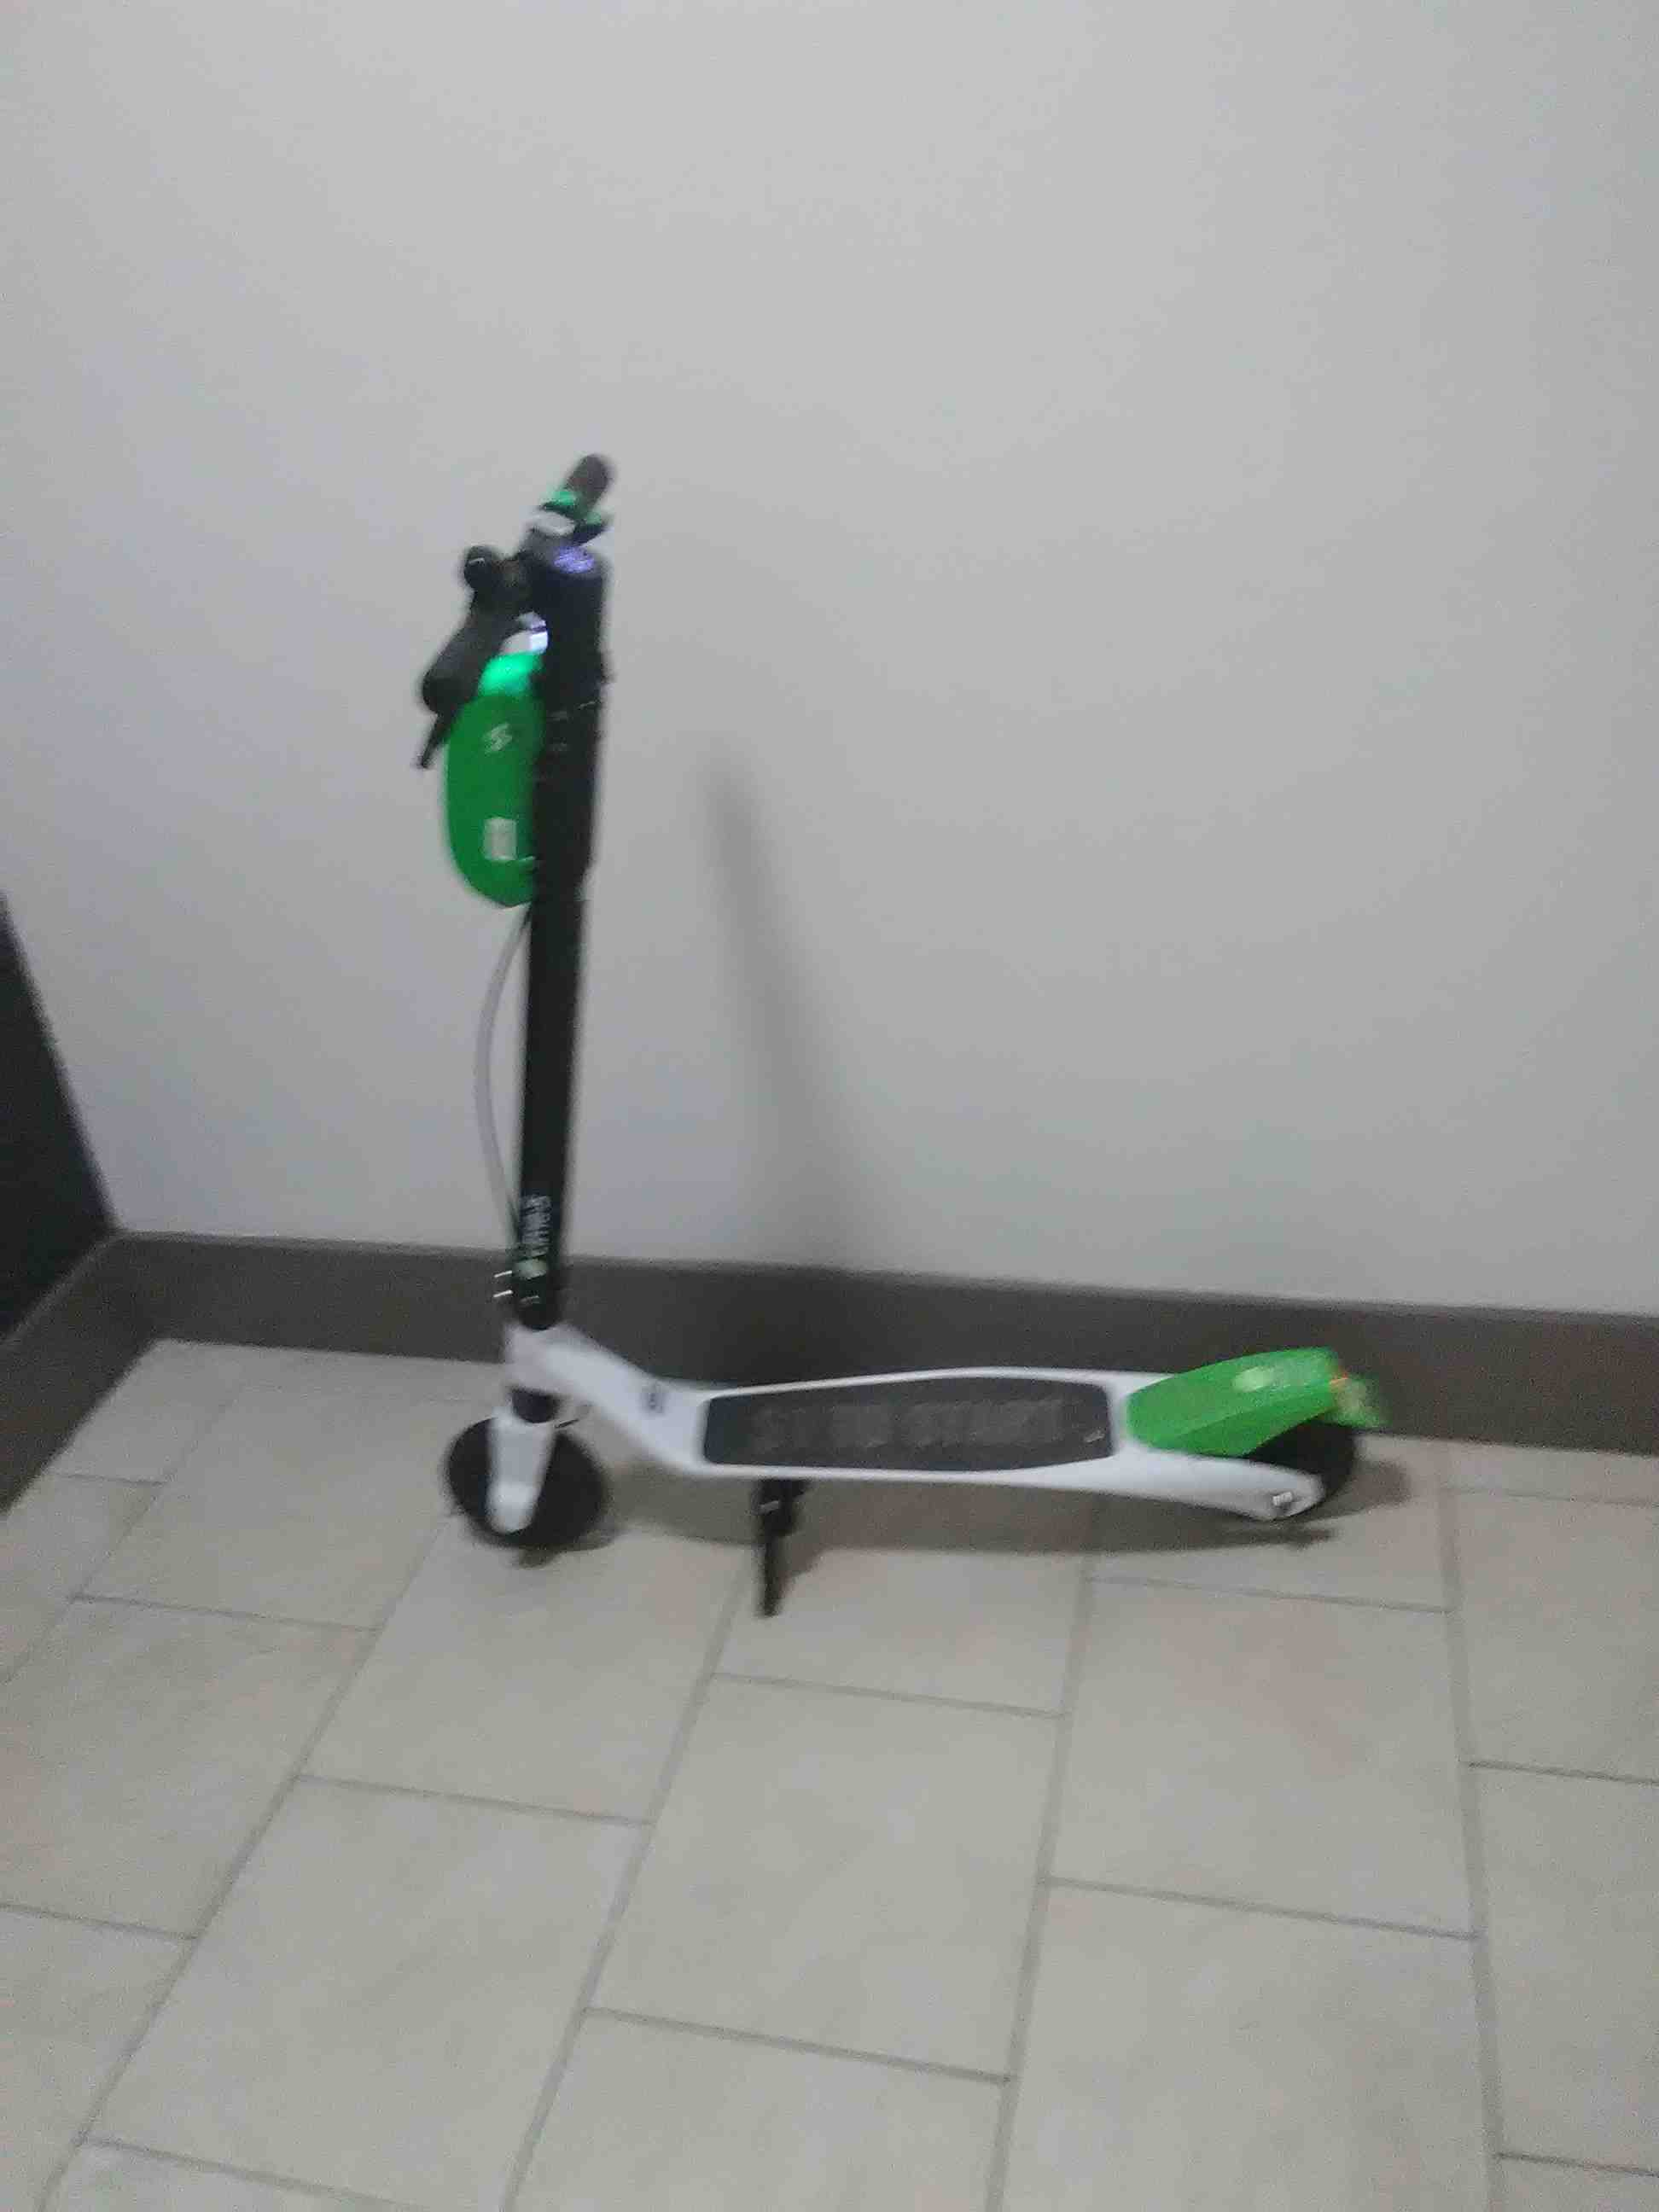scooter: (380, 420, 1429, 1595)
